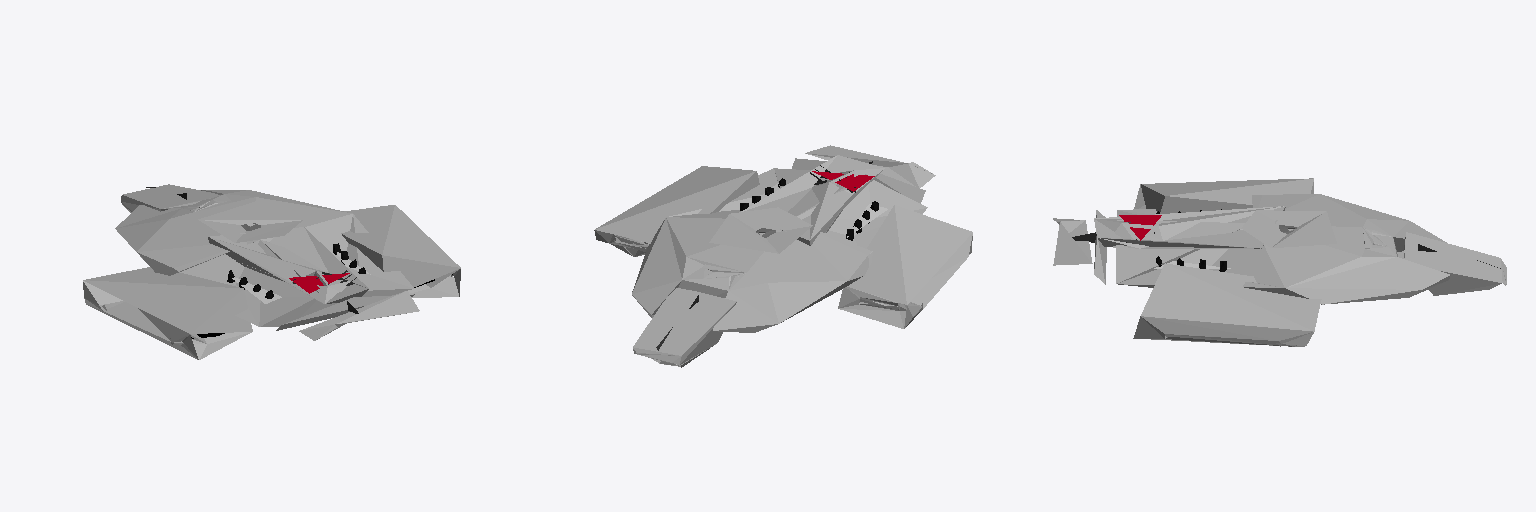
File: defiant-0.0156.obj
The picture shows the model from 3 angles: view 1: azimuth 30°, elevation 25°; view 2: azimuth 150°, elevation 25°; view 3: azimuth 270°, elevation 25°; orthographic projection.
Parts seen in each view (by area): view 1: Antrieb1; view 2: Antrieb1; view 3: Antrieb1.
Boxes of the visible parts, x1=… form: Antrieb1: x1=83, y1=184, x2=460, y2=359; Antrieb1: x1=594, y1=145, x2=972, y2=367; Antrieb1: x1=1053, y1=178, x2=1506, y2=346.
Bounding box in the file's own units: 4.14 × 0.803 × 5.13.